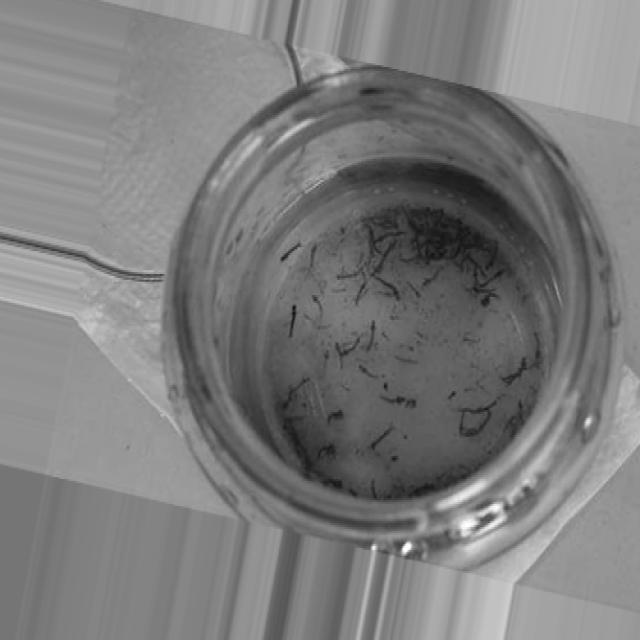larvas: (290, 424, 310, 464), (285, 373, 309, 404), (373, 277, 401, 299), (461, 399, 498, 415), (339, 264, 368, 284), (509, 356, 527, 384), (402, 205, 420, 232), (280, 241, 302, 263), (372, 428, 394, 448), (374, 249, 393, 272), (421, 264, 440, 286), (474, 273, 503, 287), (486, 239, 500, 268), (357, 363, 380, 380), (470, 289, 500, 302), (354, 276, 368, 303), (308, 245, 319, 279), (459, 412, 472, 440), (474, 412, 491, 433), (396, 351, 417, 368), (411, 482, 432, 498), (515, 398, 524, 433), (368, 318, 377, 352), (366, 225, 378, 250), (311, 294, 323, 318), (446, 246, 464, 262), (401, 254, 426, 265), (334, 344, 344, 370), (532, 333, 542, 359), (319, 441, 336, 456), (344, 337, 358, 355), (472, 256, 486, 274), (381, 394, 406, 404), (379, 231, 403, 241), (290, 302, 297, 332), (408, 283, 420, 300), (370, 482, 380, 501), (323, 346, 329, 377), (327, 477, 344, 487), (330, 410, 343, 422)
